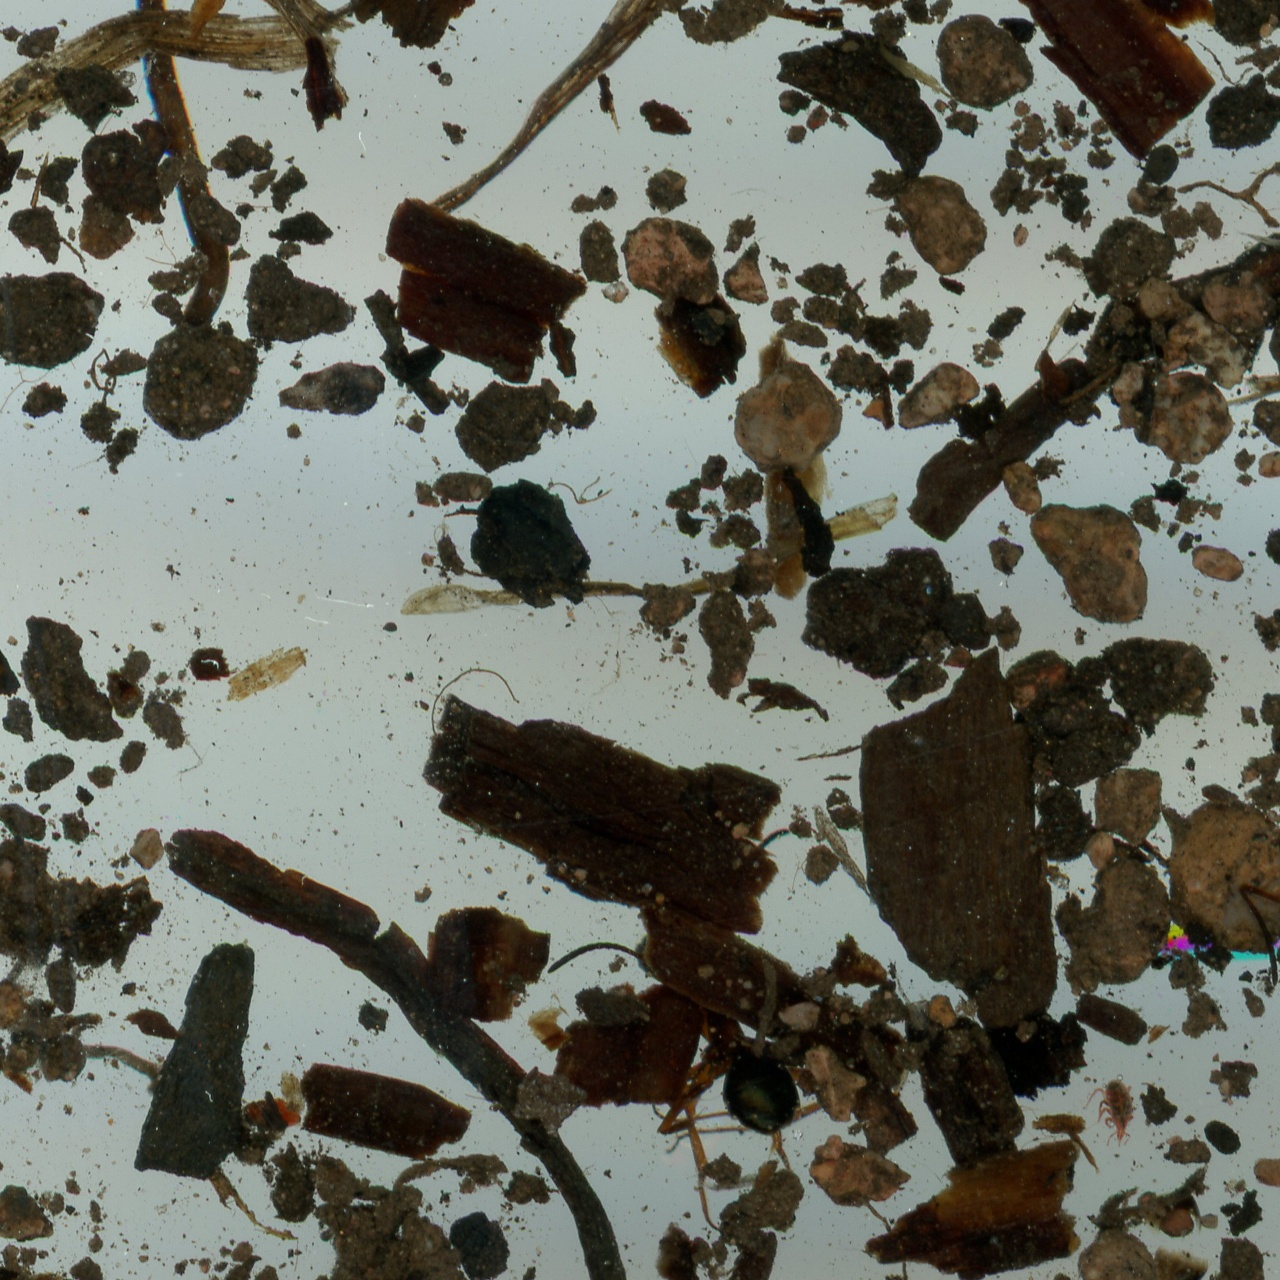arthropod: (488, 794, 980, 1274), (1237, 838, 1280, 993), (1081, 1074, 1139, 1150)
